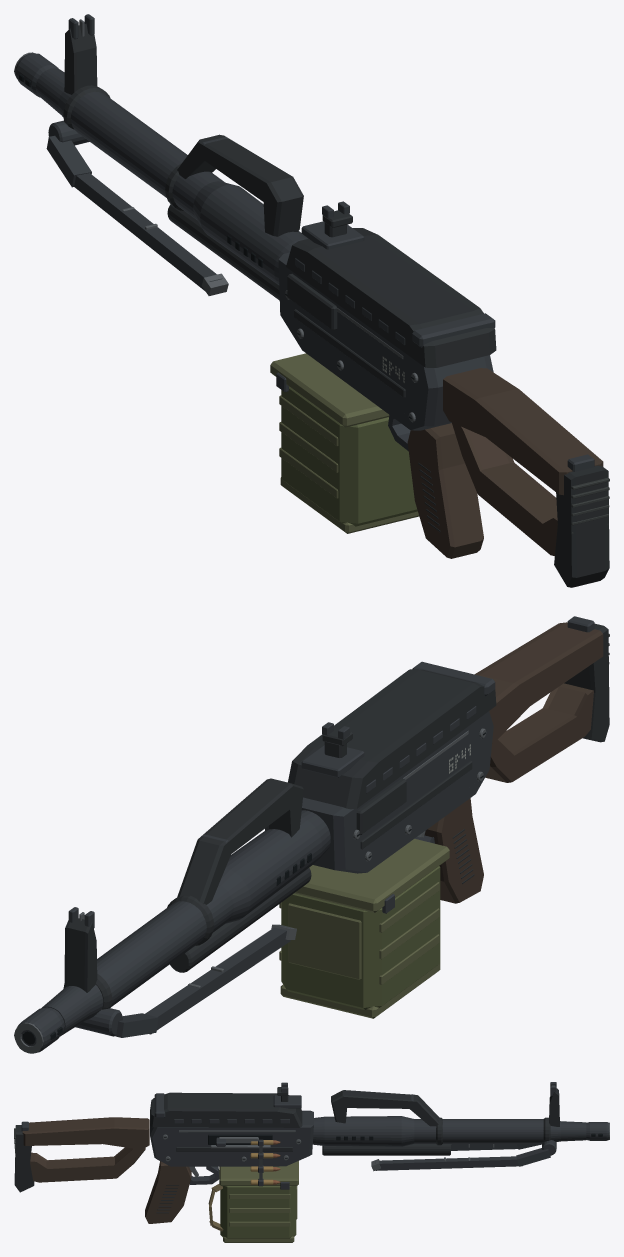
Rendered from pkp.glb.
3 renders of one model, top to bottom at view 1: azimuth 30°, elevation 25°; view 2: azimuth 150°, elevation 25°; view 3: azimuth 270°, elevation 25°, orthographic. The views are drawn at different scales.
Parts seen in each view (by area): view 1: Stock, Receiver, Magazine, Barrel, FeedCover, CarryHandle, BipodLeft, FrontSight, RearSight, MuzzleDevice; view 2: Magazine, Barrel, Receiver, Stock, FeedCover, CarryHandle, BipodLeft, FrontSight, RearSight, MuzzleDevice, BipodMount; view 3: Barrel, Receiver, Stock, Magazine, FeedCover, CarryHandle, BipodRight, RearSight, BipodLeft, MuzzleDevice, FrontSight, Bolt.
Part boxes in pixels (left/top/right/bottom): Stock: left=443, top=368, right=609, bottom=587; Receiver: left=278, top=252, right=493, bottom=558; Magazine: left=270, top=353, right=419, bottom=533; Barrel: left=35, top=68, right=307, bottom=300; FeedCover: left=286, top=228, right=496, bottom=367; CarryHandle: left=177, top=134, right=303, bottom=236; BipodLeft: left=46, top=135, right=228, bottom=295; FrontSight: left=64, top=14, right=97, bottom=94; RearSight: left=301, top=201, right=364, bottom=249; MuzzleDevice: left=14, top=52, right=58, bottom=97; Magazine: left=279, top=838, right=449, bottom=1018; Barrel: left=41, top=810, right=330, bottom=1036; Receiver: left=301, top=711, right=493, bottom=903; Stock: left=474, top=616, right=609, bottom=782; FeedCover: left=288, top=661, right=496, bottom=809; CarryHandle: left=177, top=778, right=303, bottom=904; BipodLeft: left=115, top=924, right=296, bottom=1037; FrontSight: left=64, top=907, right=97, bottom=992; RearSight: left=301, top=722, right=364, bottom=777; MuzzleDevice: left=14, top=1007, right=64, bottom=1053; BipodMount: left=75, top=1008, right=122, bottom=1036; Barrel: left=312, top=1116, right=586, bottom=1155; Receiver: left=145, top=1110, right=313, bottom=1223; Stock: left=14, top=1117, right=149, bottom=1192; Magazine: left=208, top=1139, right=298, bottom=1242; FeedCover: left=150, top=1092, right=302, bottom=1127; CarryHandle: left=331, top=1090, right=439, bottom=1126; BipodRight: left=371, top=1148, right=550, bottom=1171; RearSight: left=273, top=1082, right=301, bottom=1108; BipodLeft: left=451, top=1144, right=541, bottom=1150; MuzzleDevice: left=586, top=1122, right=609, bottom=1140; FrontSight: left=549, top=1082, right=559, bottom=1126; Bolt: left=216, top=1137, right=258, bottom=1146.
Bounding box in the file's own units: 0.203 × 0.4308 × 1.58.
